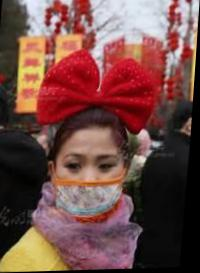WRONG: (55, 150, 128, 221)
